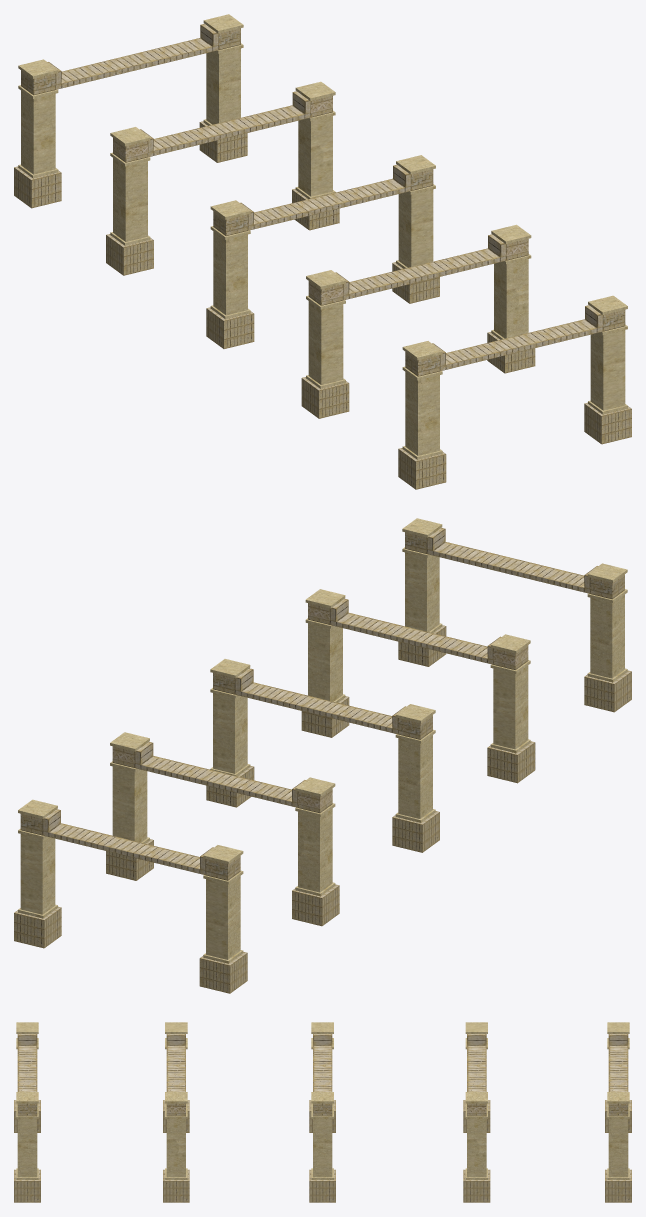
Rendered from tutorial_structure_pillar_walkway.dae.
The picture shows the model from 3 angles, top to bottom: view 1: azimuth 30°, elevation 25°; view 2: azimuth 150°, elevation 25°; view 3: azimuth 270°, elevation 25°; orthographic projection. The views are drawn at different scales.
Visible parts, largest first — view 1: tutorial_structure_pillar_walkway; view 2: tutorial_structure_pillar_walkway; view 3: tutorial_structure_pillar_walkway.
Part boxes in pixels (left/top/right/bottom): tutorial_structure_pillar_walkway: left=14, top=14, right=631, bottom=489; tutorial_structure_pillar_walkway: left=14, top=518, right=631, bottom=993; tutorial_structure_pillar_walkway: left=14, top=1022, right=631, bottom=1202.
Size of the model in its own units: 17.15 by 55.26 by 9.89.
Materials: 5 (5 with a texture image).
